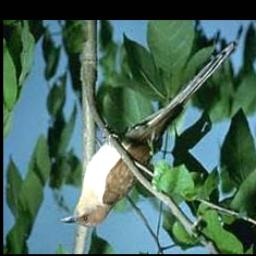Cuckoo: (56, 36, 240, 231)
